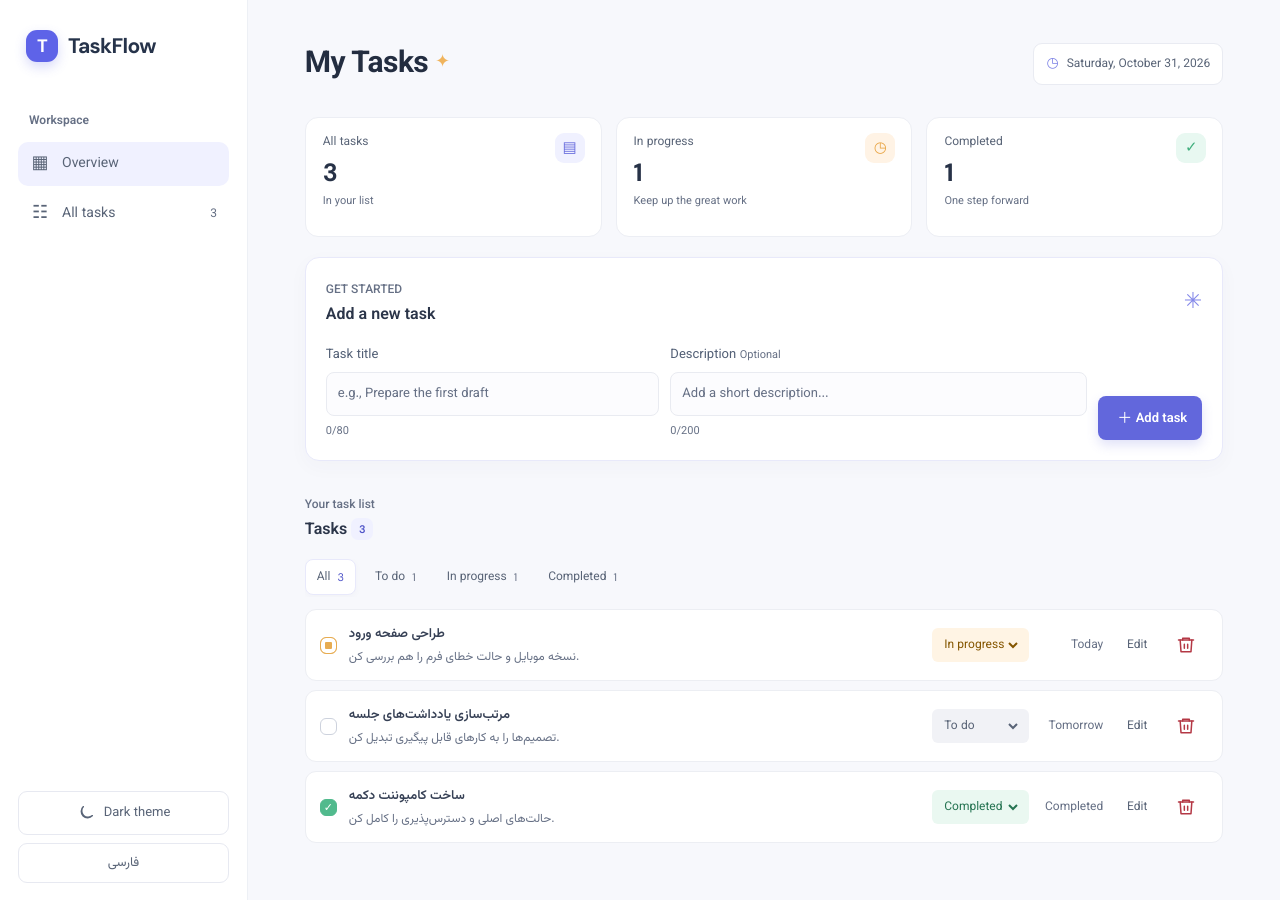
Test: TaskFlow dashboard › changes task status and filters by that status
Select "Completed" in the dropdown named "Status of طراحی صفحه ورود": (981, 645) [940, 633, 1021, 657]
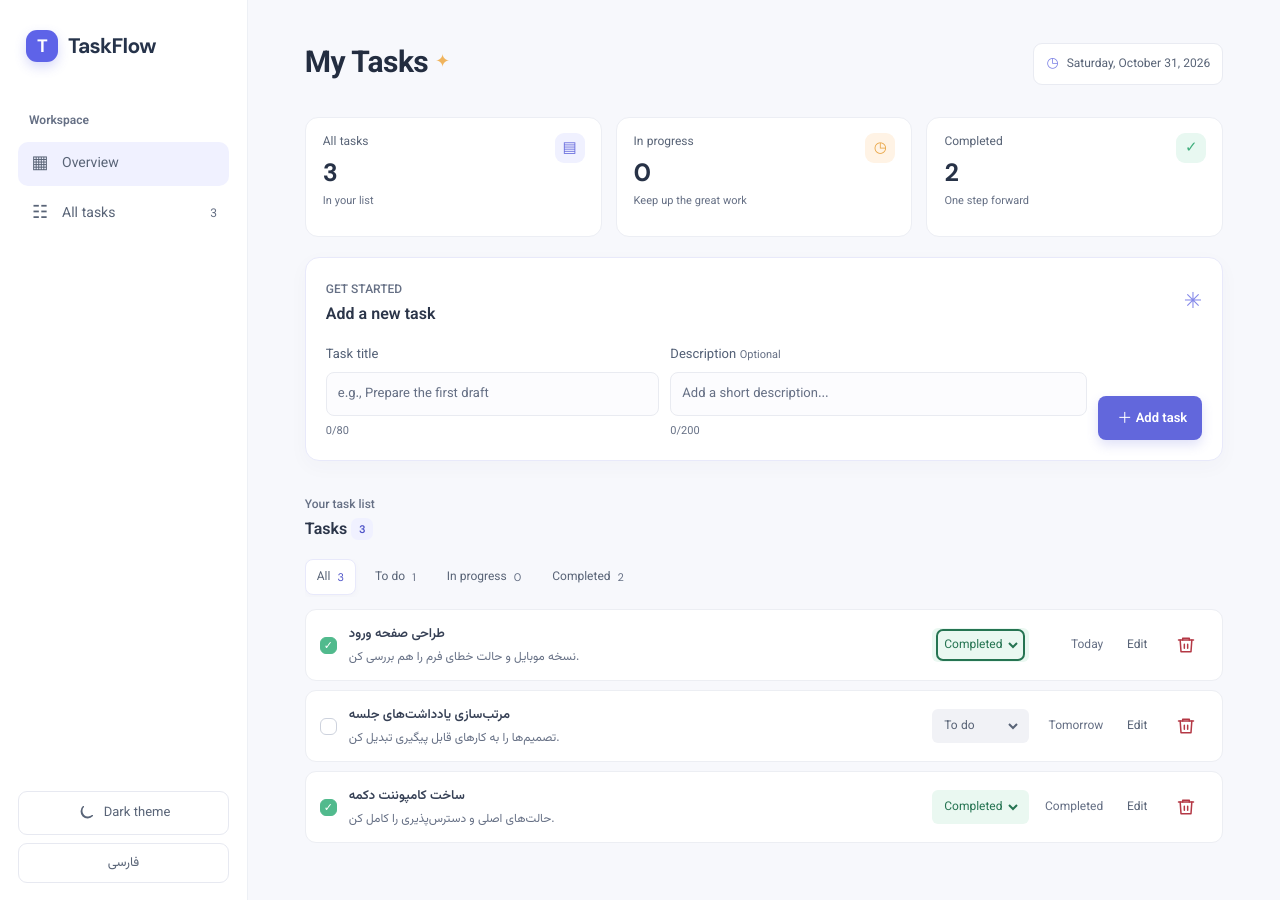
Click the button "Completed 2": (588, 577) [540, 559, 636, 595]
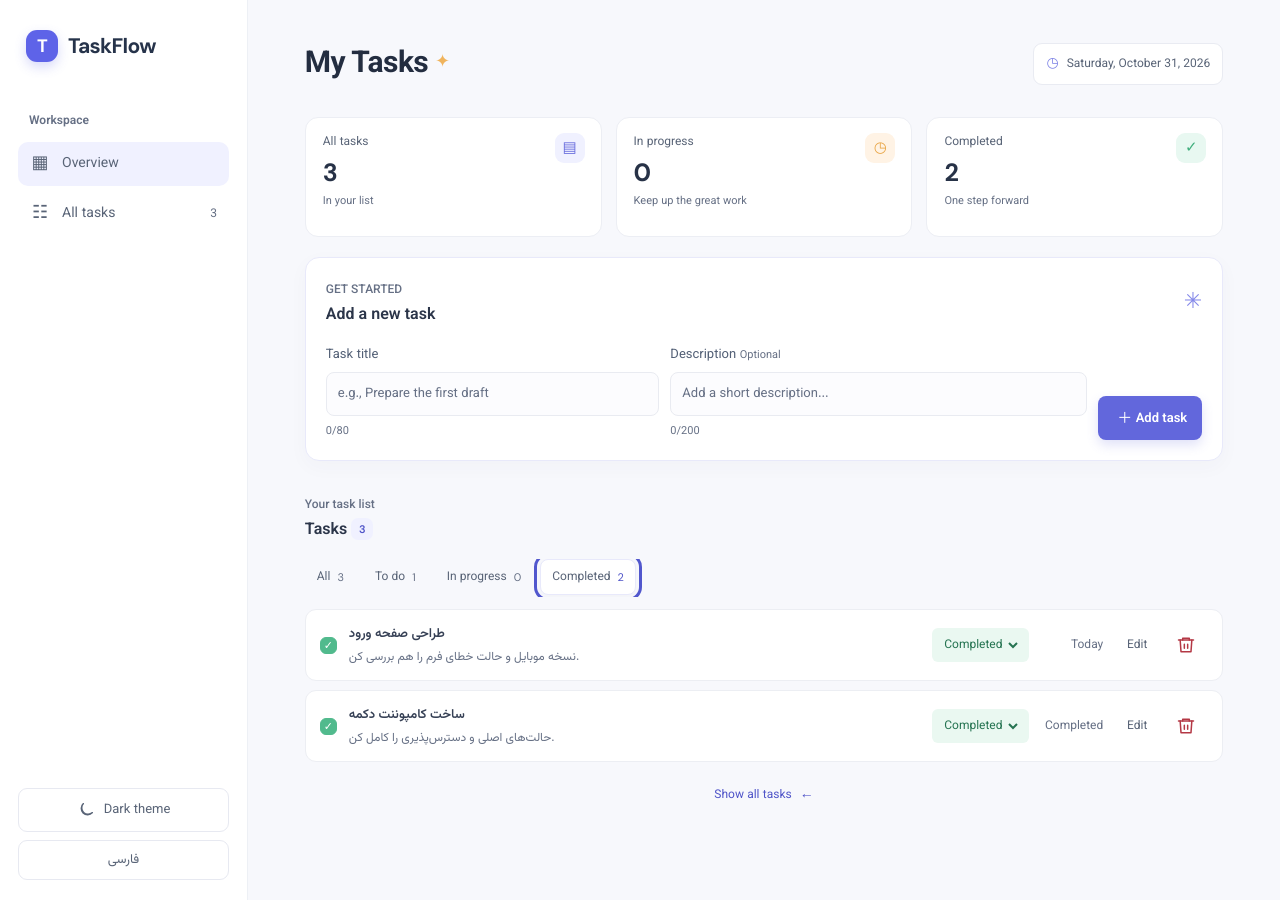
Check: the heading "طراحی صفحه ورود" is shown, box [349, 624, 445, 644]
Check: the heading "مرتب‌سازی یادداشت‌های جلسه" is gone
